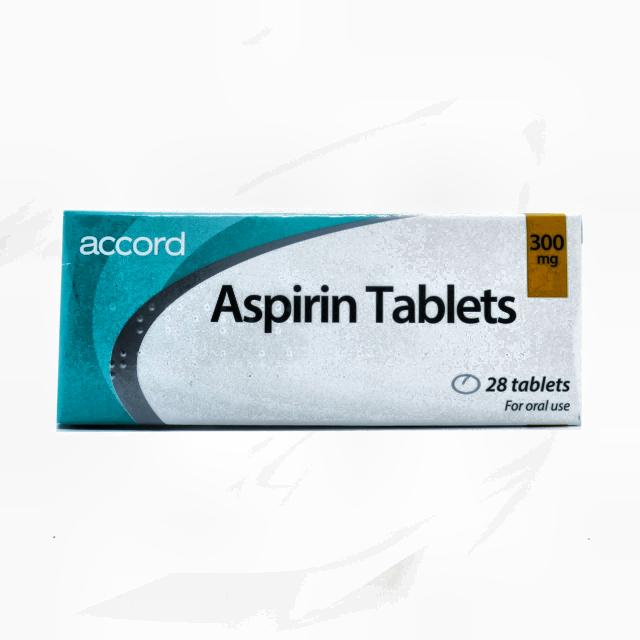Aspirin: (202, 271, 535, 351)
